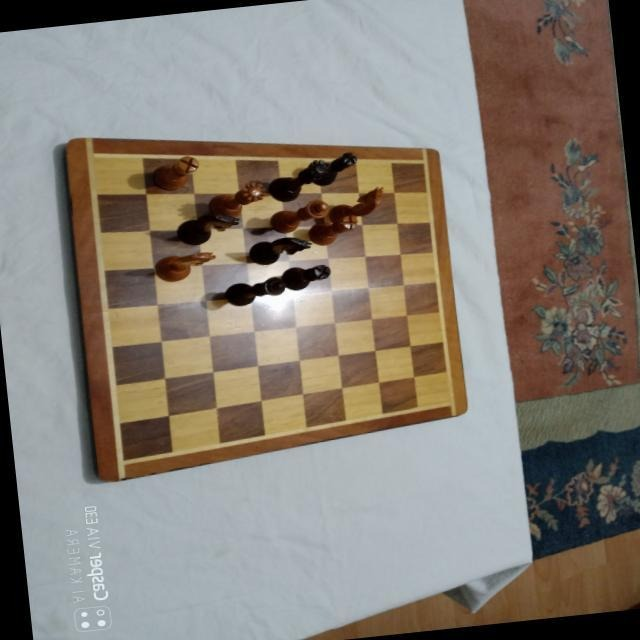black-king: (223, 275, 285, 307)
black-knight: (174, 210, 242, 246), (248, 234, 312, 266)
black-queen: (266, 158, 334, 204)
black-rook: (280, 262, 331, 291)
white-king: (267, 197, 330, 234)
white-knight: (325, 185, 386, 227), (151, 250, 216, 283), (307, 150, 359, 187)
white-rook: (150, 155, 201, 193), (305, 213, 359, 246)
